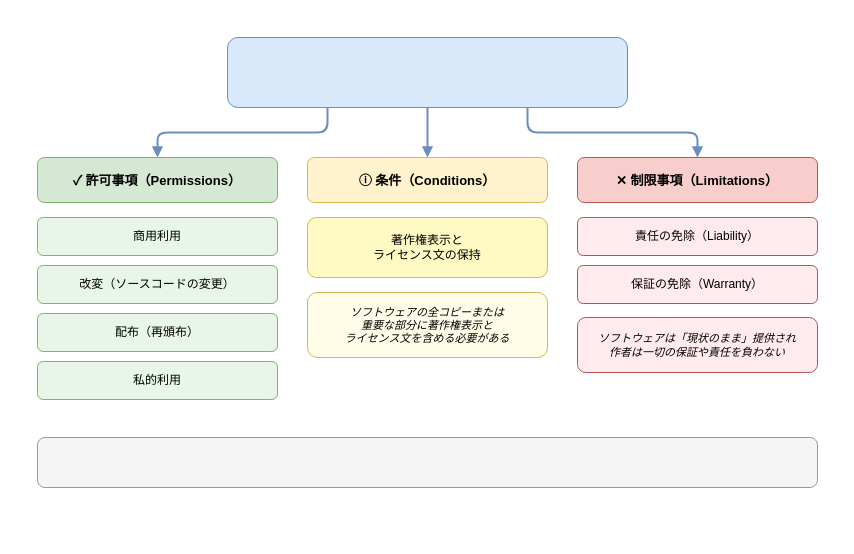
The diagram is 854 pixels wide and 554 high, and some of its shapes have lost their labels. The centre of each missing label's shape, as x and y in pixels:
"MIT ライセンス（MIT License）" belongs at (x=427, y=72).
"まとめ: MIT ライセンスは最も自由度の高いライセンスの一つ。唯一の条件は著作権表示とライセンス文を保持すること。" belongs at (x=427, y=462).
